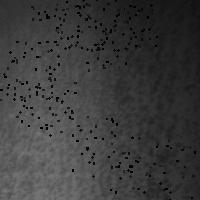pitted_surface: (1, 10, 197, 200), (71, 116, 129, 175), (86, 9, 143, 69), (0, 41, 58, 99), (110, 136, 170, 191), (16, 78, 74, 134), (96, 0, 156, 49), (77, 0, 135, 49), (31, 0, 88, 48), (46, 0, 102, 48), (162, 146, 200, 200)
